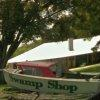Boat: (1, 55, 100, 97)
